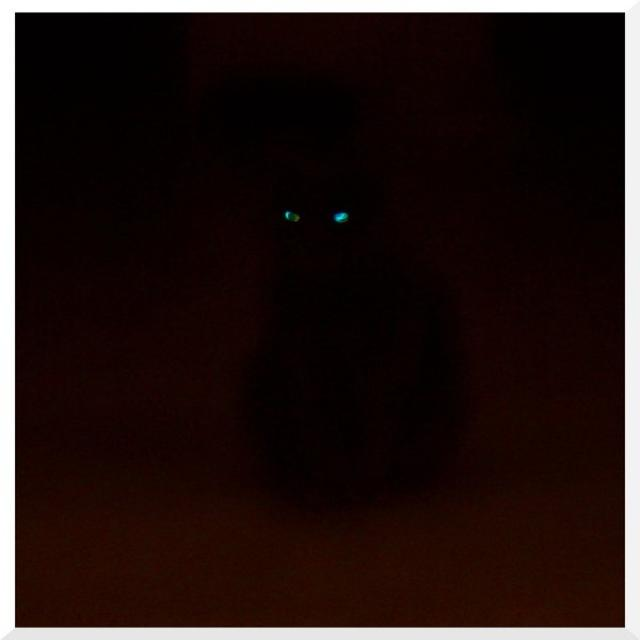Cat: (226, 147, 495, 556)
